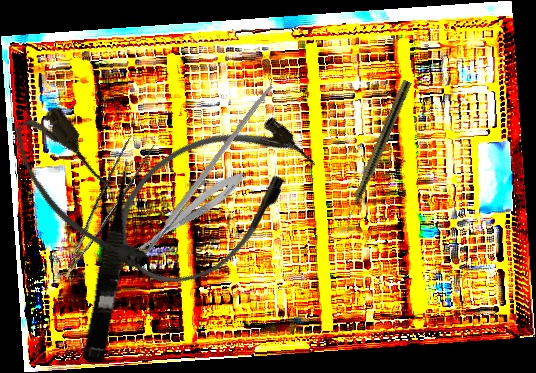Cannula: (92, 87, 333, 309), (2, 100, 161, 292)
Handpiece: (341, 78, 413, 226)
Micro Scissor: (81, 159, 145, 366), (129, 166, 250, 263)
Scalpel Handle: (141, 82, 275, 257)
Tissue Forceps: (43, 130, 159, 279)
